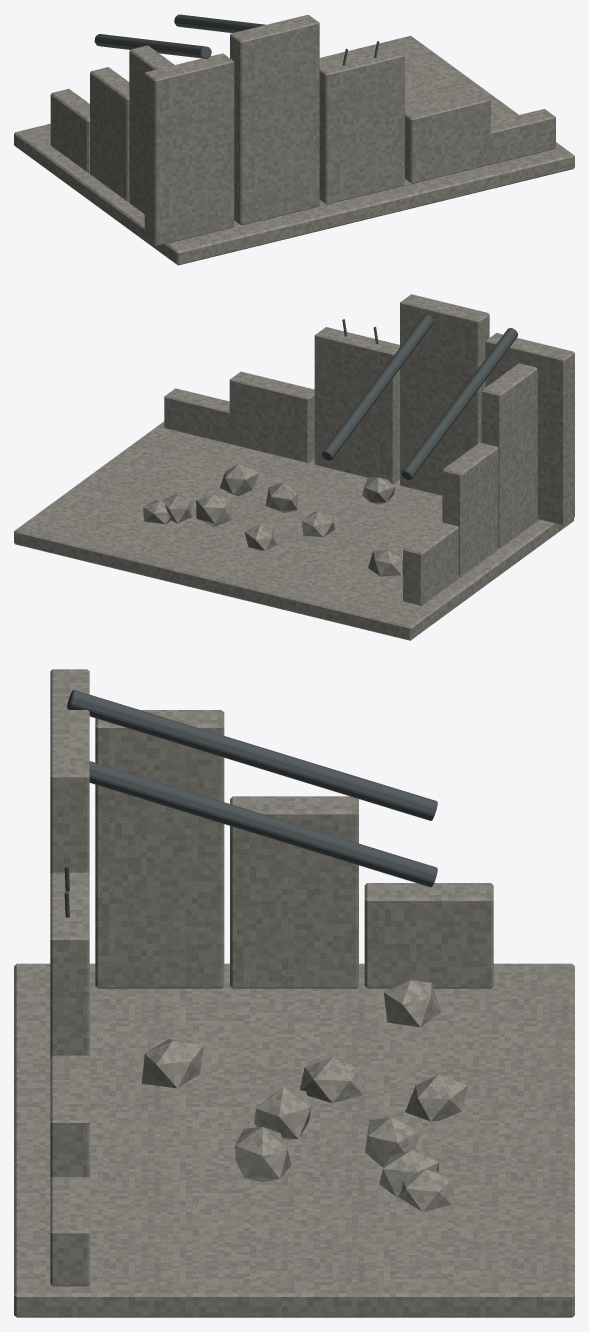
3 views of the same model, one above another, from view 1: azimuth 30°, elevation 25°; view 2: azimuth 150°, elevation 25°; view 3: azimuth 270°, elevation 25° (orthographic). The views are drawn at different scales.
Parts seen in each view (by area): view 1: ST2-B04_Mesh; view 2: ST2-B04_Mesh; view 3: ST2-B04_Mesh.
Part boxes in pixels (x1=…): ST2-B04_Mesh: x1=14, y1=14, x2=574, y2=265; ST2-B04_Mesh: x1=14, y1=294, x2=574, y2=640; ST2-B04_Mesh: x1=14, y1=669, x2=574, y2=1317.
Size of the model in its own units: 7.2 by 3.34 by 5.
Materials: 2 (1 with a texture image).
